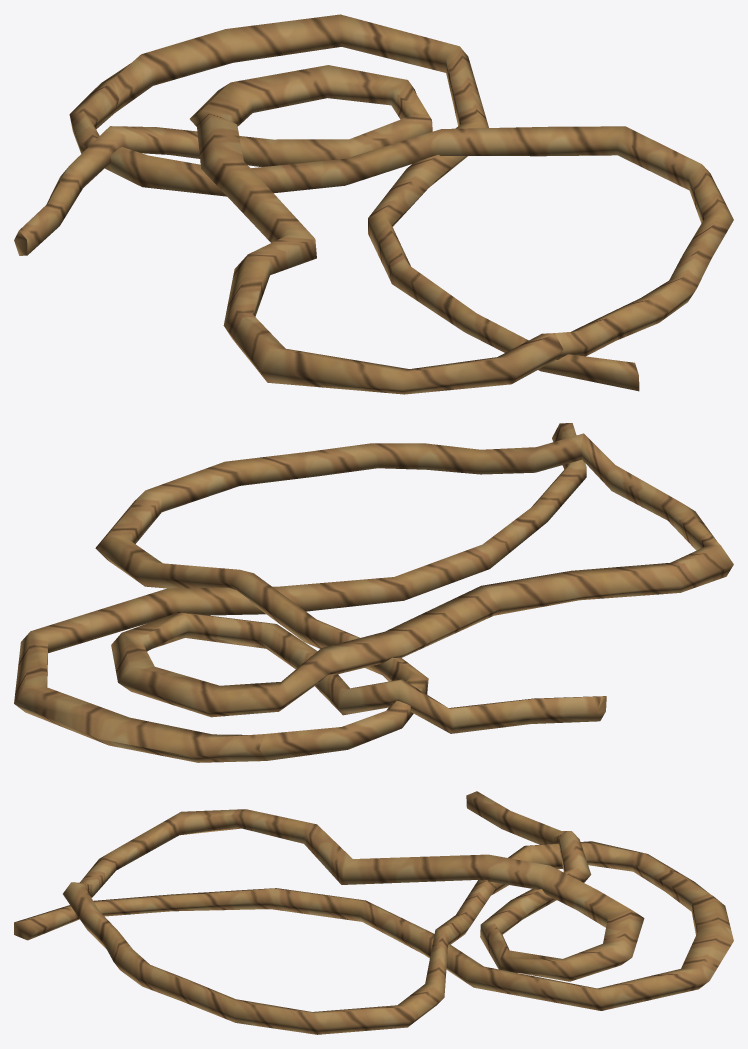
The model's file is SM_PROP_rope_battle_01.fbx.
The picture shows the model from 3 angles, top to bottom: view 1: azimuth 30°, elevation 25°; view 2: azimuth 150°, elevation 25°; view 3: azimuth 270°, elevation 25°; orthographic projection. The views are drawn at different scales.
Visible parts, largest first — view 1: SM_PROP_rope_battle_01; view 2: SM_PROP_rope_battle_01; view 3: SM_PROP_rope_battle_01.
Boxes of the visible parts, x1=… form: SM_PROP_rope_battle_01: x1=14, y1=14, x2=733, y2=394; SM_PROP_rope_battle_01: x1=14, y1=423, x2=733, y2=762; SM_PROP_rope_battle_01: x1=14, y1=791, x2=733, y2=1034.
Bounding box in the file's own units: 115 × 9.72 × 154.
